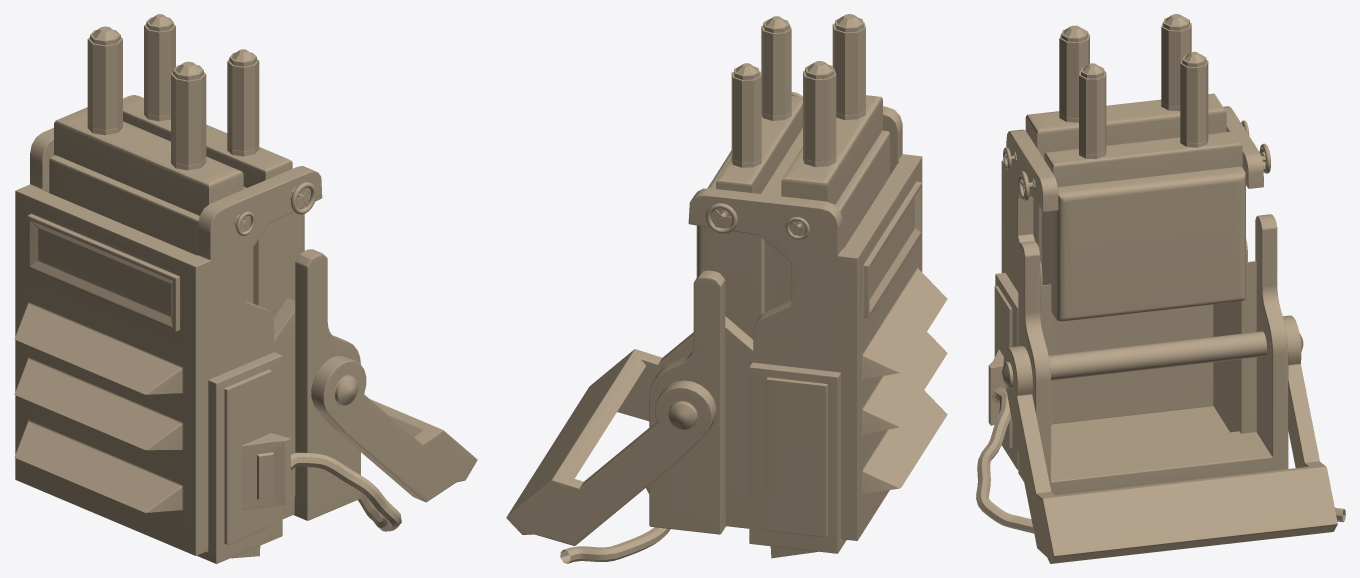
Rendered from ModuleCnm.fbx.
3 views of the same model, side by side, from view 1: azimuth 30°, elevation 25°; view 2: azimuth 150°, elevation 25°; view 3: azimuth 270°, elevation 25° (orthographic). The views are drawn at different scales.
Parts seen in each view (by area): view 1: polySurface428, polySurface409; view 2: polySurface428, polySurface409; view 3: polySurface428, polySurface409.
Boxes of the visible parts, x1,y1,x2,y2 form: polySurface428: [14, 95, 477, 563]; polySurface409: [87, 14, 259, 165]; polySurface428: [506, 92, 947, 563]; polySurface409: [731, 14, 865, 162]; polySurface428: [976, 93, 1345, 563]; polySurface409: [1059, 14, 1208, 154].
Size of the model in its own units: 457 by 543 by 419.
